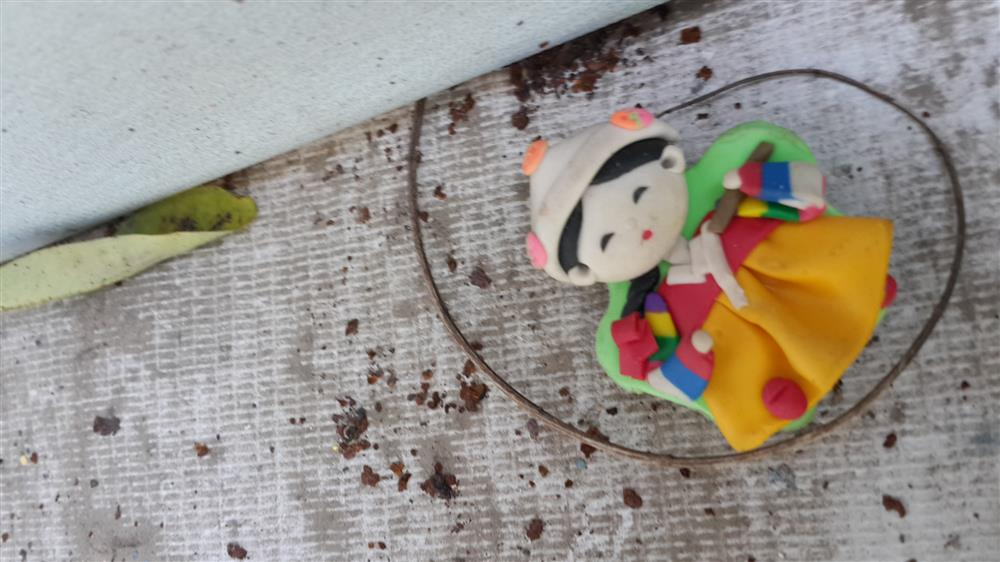clay_figurine: (511, 99, 907, 449)
